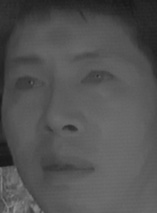eye: (79, 64, 117, 90), (8, 72, 48, 93)
mouth: (40, 152, 98, 185)
